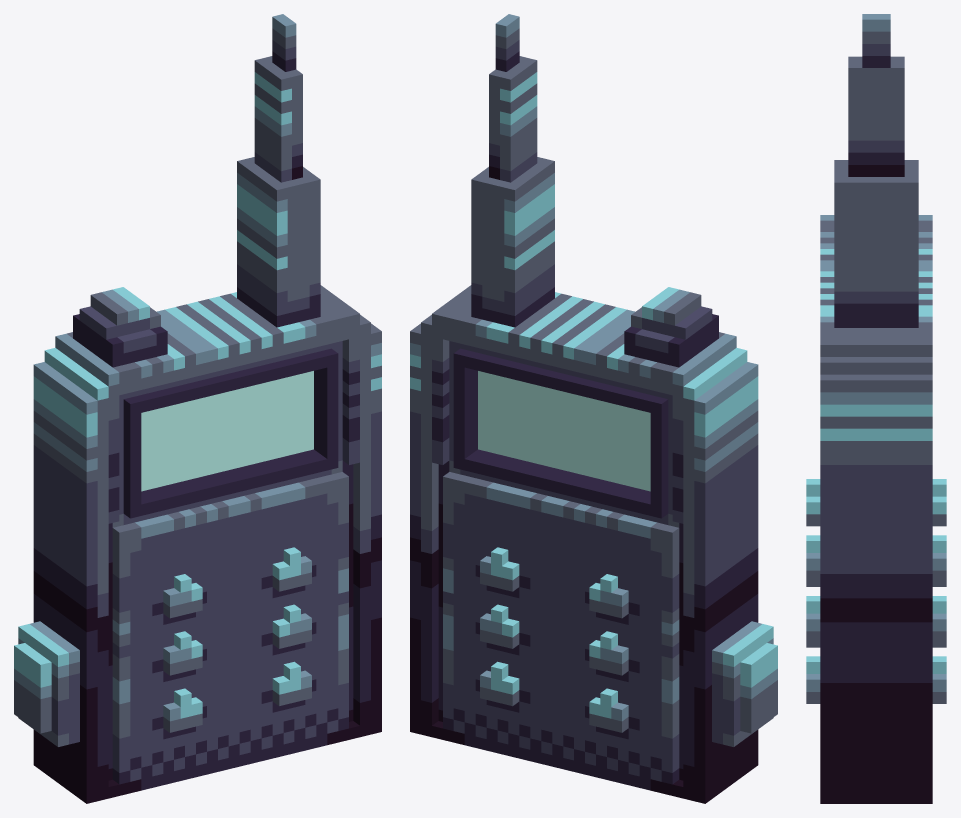
The model's file is telsiz.fbx.
3 renders of one model, left to right at view 1: azimuth 30°, elevation 25°; view 2: azimuth 150°, elevation 25°; view 3: azimuth 270°, elevation 25°, orthographic. The views are drawn at different scales.
Parts seen in each view (by area): view 1: generated; view 2: generated; view 3: generated.
Part boxes in pixels (<box>): generated: <box>14,14,381,803</box>; generated: <box>410,14,777,803</box>; generated: <box>806,14,946,803</box>.
Size of the model in its own units: 300 by 620 by 105.
